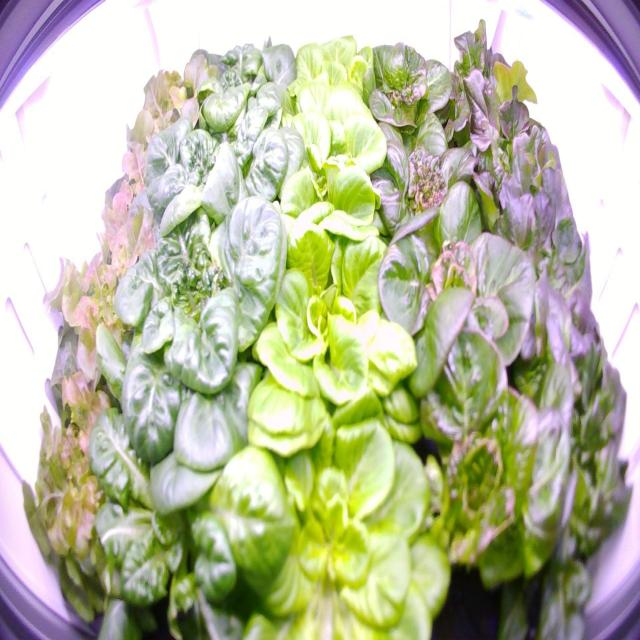Ready: (65, 333, 292, 636), (194, 376, 455, 638), (226, 206, 428, 468), (90, 160, 301, 410), (388, 319, 570, 600), (363, 177, 552, 408), (130, 88, 307, 235), (354, 98, 504, 260), (257, 77, 391, 244), (350, 31, 477, 162), (177, 24, 301, 154), (280, 14, 388, 146)
